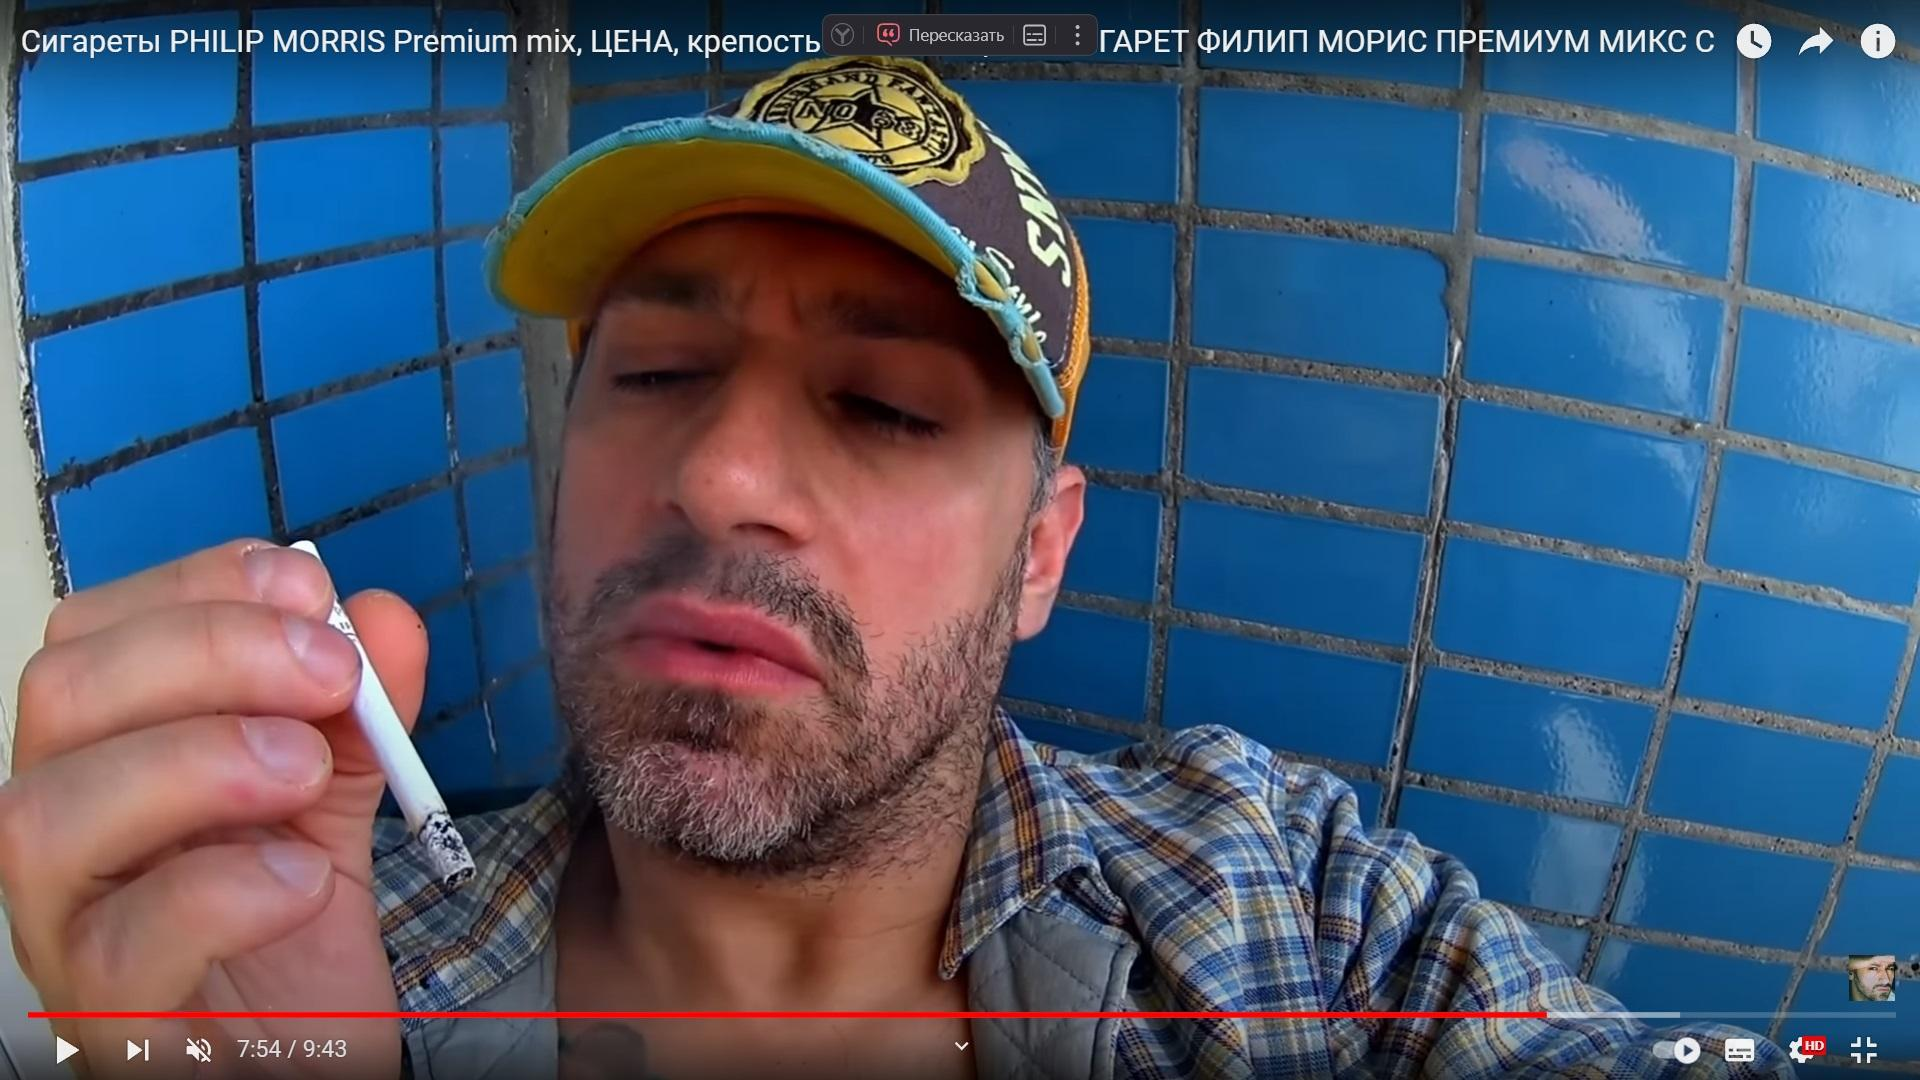cigarette: (287, 541, 479, 893)
